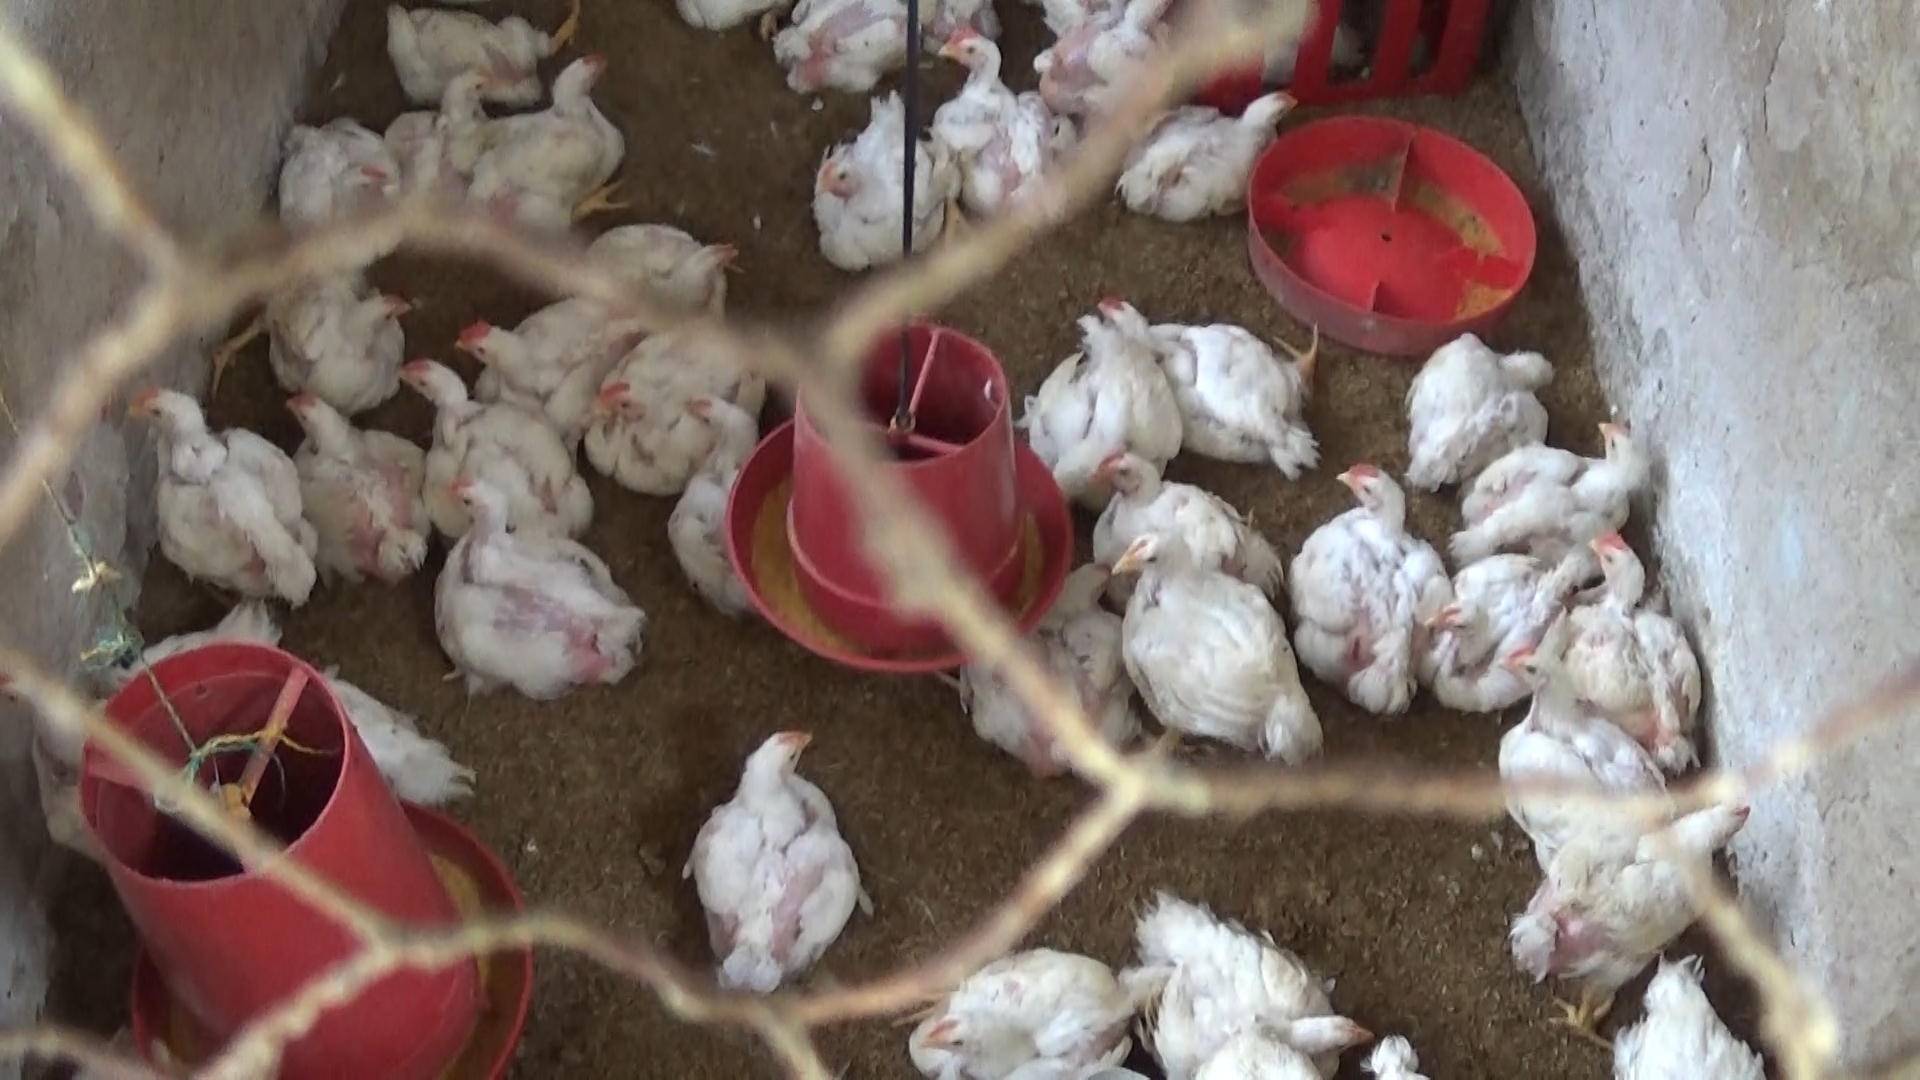Pollos: (1497, 785, 1780, 1027), (666, 712, 895, 1009), (417, 465, 653, 712), (109, 377, 316, 628), (1110, 529, 1323, 762), (1096, 276, 1338, 472), (1102, 898, 1364, 1073), (1276, 456, 1451, 712), (1486, 637, 1667, 839), (372, 361, 589, 529), (890, 942, 1153, 1080), (587, 301, 773, 487), (258, 386, 440, 576), (669, 368, 791, 612), (1077, 438, 1284, 582), (804, 87, 951, 289), (473, 40, 637, 216), (1571, 524, 1702, 742), (1422, 554, 1604, 709), (1031, 311, 1174, 504), (1414, 320, 1567, 487), (1461, 413, 1660, 531), (448, 282, 611, 418), (920, 22, 1031, 204), (270, 262, 407, 406), (277, 103, 425, 232), (578, 223, 745, 336), (381, 1, 549, 108), (388, 53, 520, 185), (766, 0, 897, 96)
